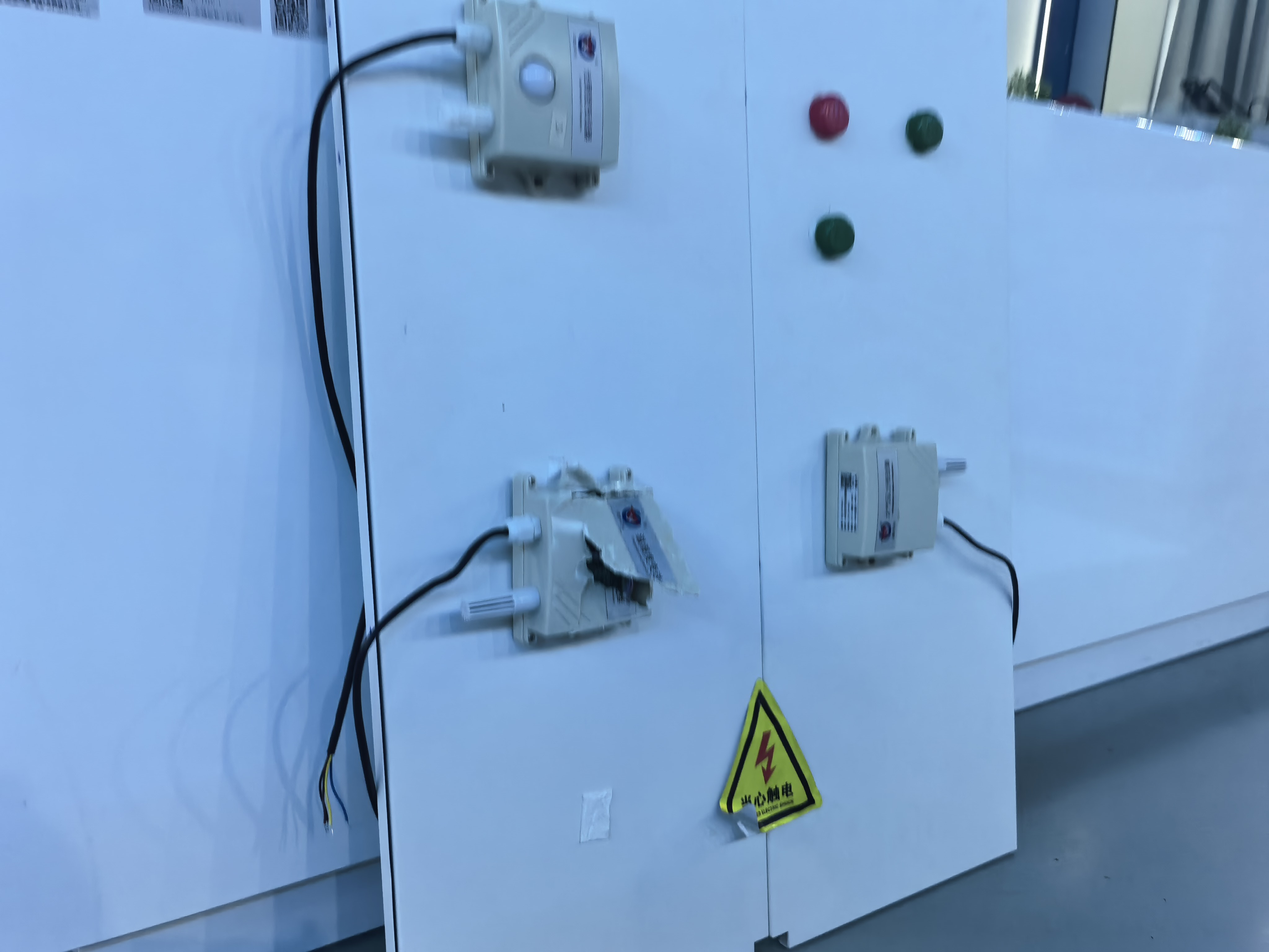red_warning: (789, 76, 886, 156)
sensor_damage: (445, 436, 717, 673)
